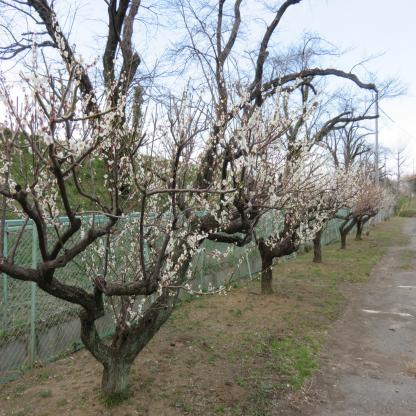Ume: (1, 16, 280, 297), (213, 55, 350, 271), (333, 159, 404, 237)
